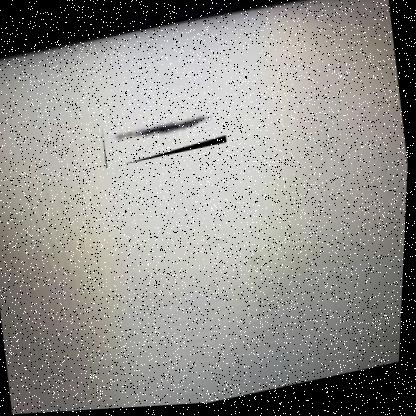spot: (101, 101, 231, 171)
